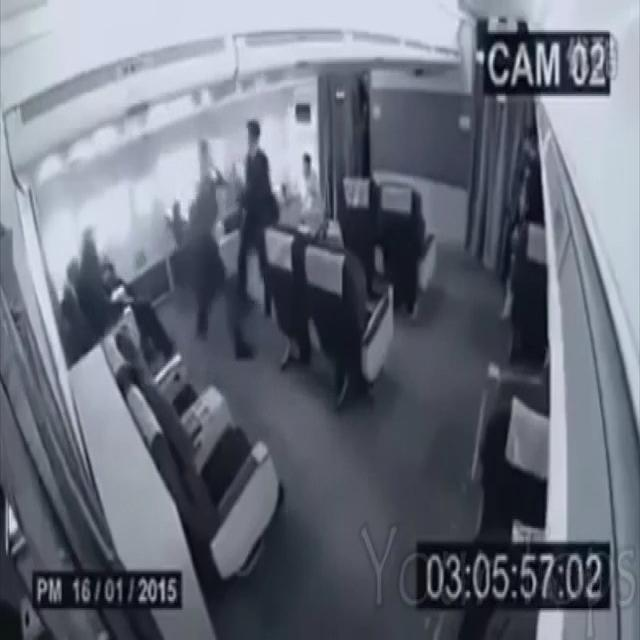fight: (191, 115, 277, 363)
